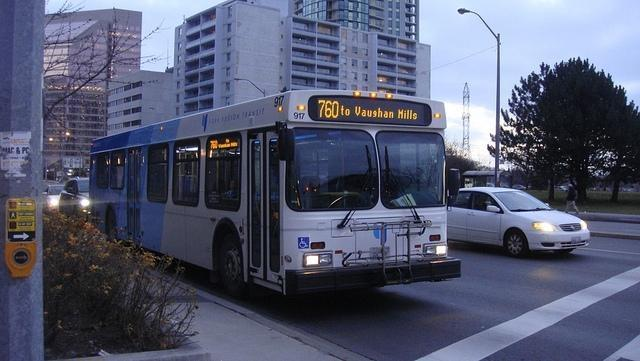bus: (87, 90, 461, 300)
car: (450, 188, 590, 253), (59, 176, 90, 217), (42, 184, 66, 216)
